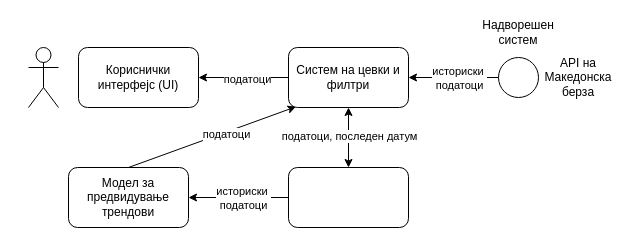
This 636x245 diagram has some shape labels left out. The centre of each missing label's shape, as x and y in pixels:
База на податоци: (348,197)
Корисник: (43,77)
